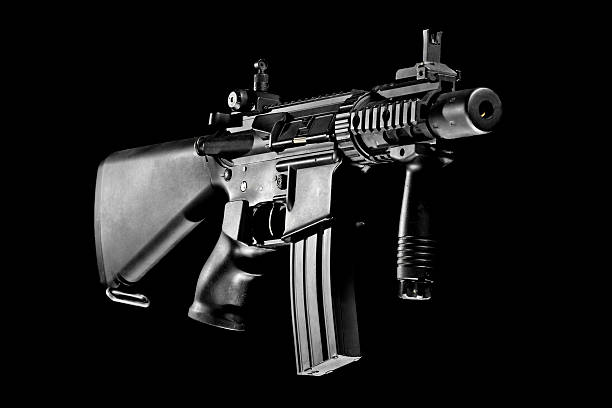rifle: (64, 27, 509, 388)
